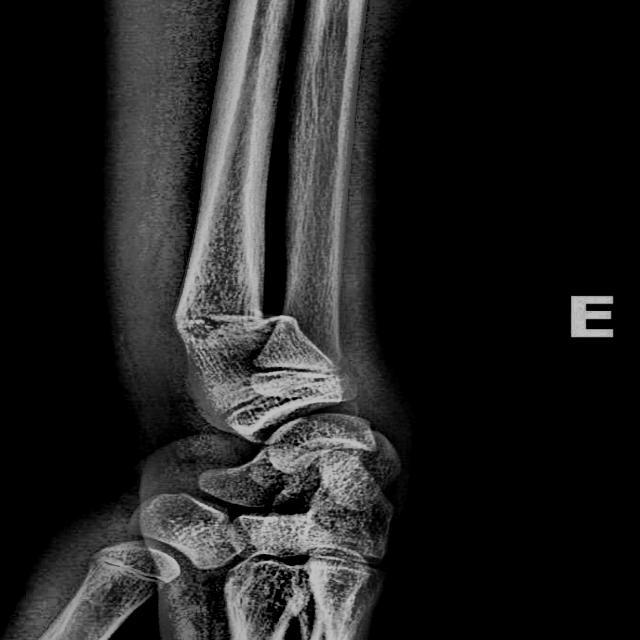fracture: (173, 312, 263, 332)
